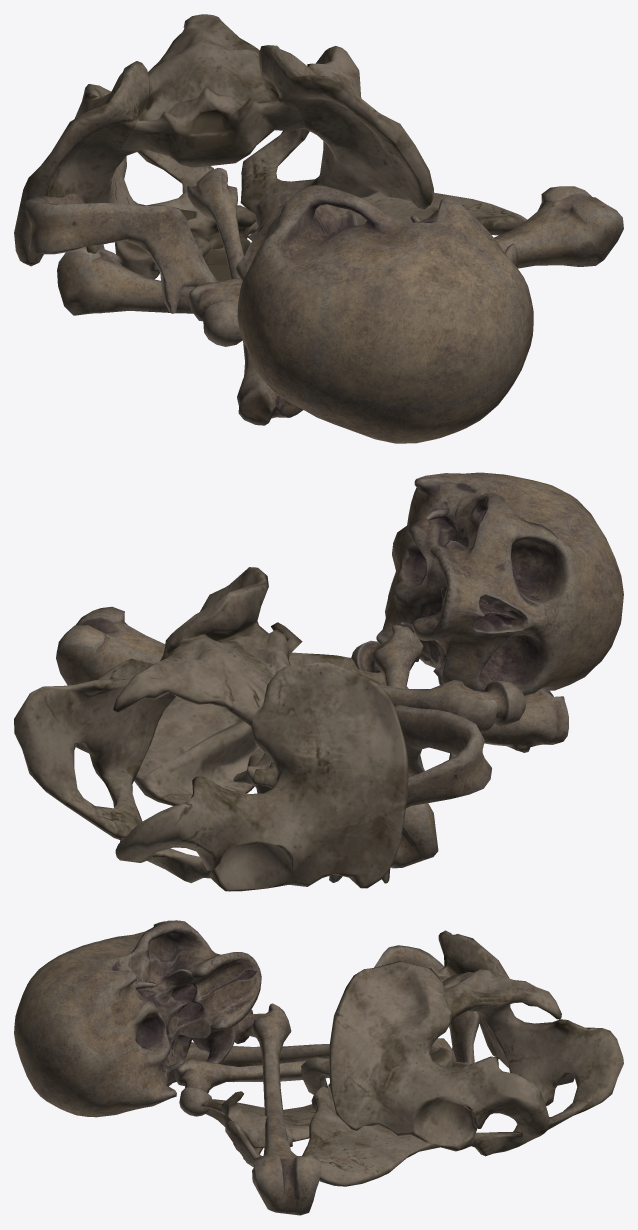
File: sm_HumanRemains_01_05.fbx
3 renders of one model, top to bottom at view 1: azimuth 30°, elevation 25°; view 2: azimuth 150°, elevation 25°; view 3: azimuth 270°, elevation 25°, orthographic. The views are drawn at different scales.
Parts seen in each view (by area): view 1: sm_HumanRemains_01_05_LOD0; view 2: sm_HumanRemains_01_05_LOD0; view 3: sm_HumanRemains_01_05_LOD0.
Part boxes in pixels (box(x1,y1,x2,y2)): sm_HumanRemains_01_05_LOD0: box(14, 14, 623, 443); sm_HumanRemains_01_05_LOD0: box(14, 472, 623, 891); sm_HumanRemains_01_05_LOD0: box(14, 920, 623, 1215).
Size of the model in its own units: 45.26 by 61.58 by 20.15.
